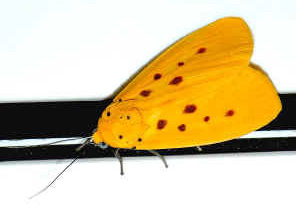Agape chloropyga: (7, 16, 282, 200)
moth: (8, 14, 283, 198)
